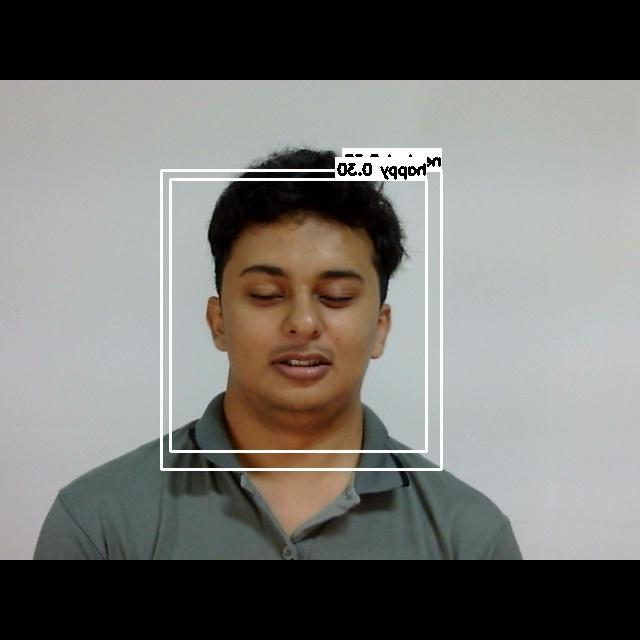Fear: (212, 229, 386, 398)
